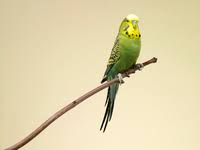budgie: (102, 15, 142, 131)
